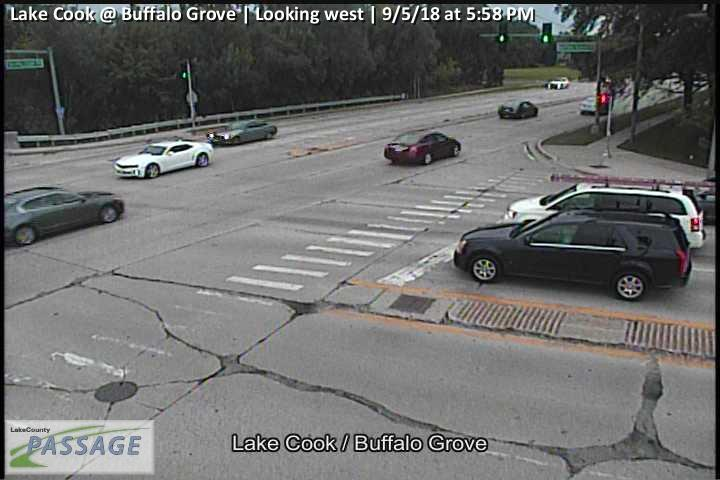SUV: (454, 208, 691, 301), (505, 181, 707, 252), (545, 77, 569, 90)
Sedan: (2, 186, 124, 242), (115, 139, 214, 177), (384, 129, 461, 163), (208, 119, 277, 145), (499, 100, 537, 119), (580, 96, 610, 114)
